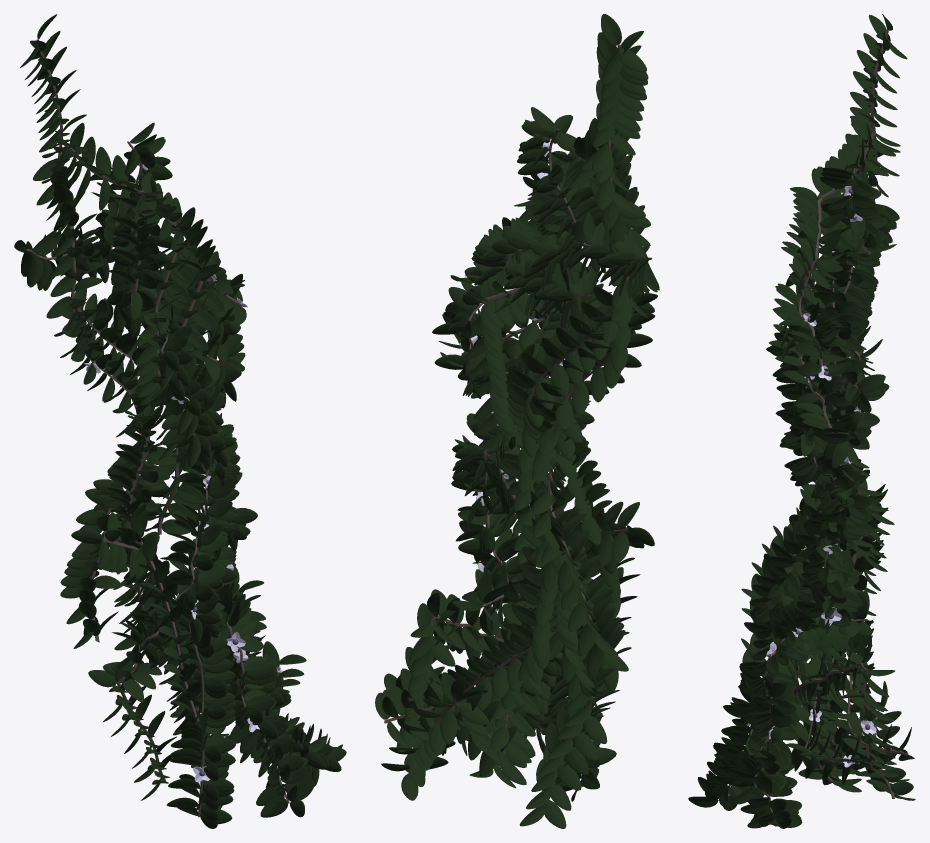
File: vine.gltf
The picture shows the model from 3 angles, left to right: view 1: azimuth 30°, elevation 25°; view 2: azimuth 150°, elevation 25°; view 3: azimuth 270°, elevation 25°; orthographic projection. The views are drawn at different scales.
Visible parts, largest first — view 1: vine 1, vine 2, flowers; view 2: vine 1, vine 2; view 3: vine 1, flowers, vine 2.
Part boxes in pixels (x1,y1,x2,y2): vine 1: (36, 39, 278, 782); vine 2: (26, 141, 289, 817); flowers: (84, 163, 283, 782); vine 1: (384, 44, 628, 787); vine 2: (467, 129, 651, 786); vine 1: (755, 29, 908, 798); flowers: (747, 186, 876, 767); vine 2: (718, 168, 867, 821).
Size of what is drawn, in the model's own units: 1.05 by 2.91 by 0.8108.
